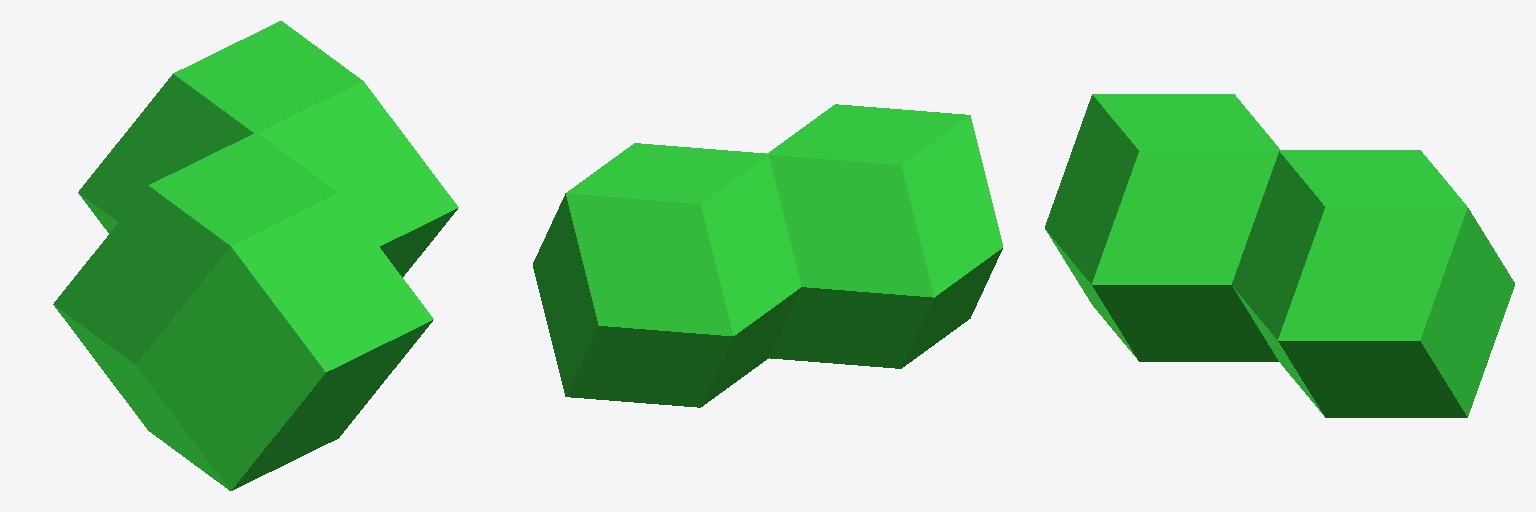
The robot description file, URDF, robot "robot":
<robot name = "robot">
    <link name="Central">
        <inertial>
            <origin xyz="0 0 0" rpy="0 0 0"/>
            <mass value="1.0" />
            <inertia ixx="100" ixy="0" ixz="0" iyy="100" iyz="0" izz="100" />
        </inertial>
        <visual>
            <origin xyz="0 0 0" rpy="0 0 0"/>
            <geometry>
                <mesh filename="RhomDoDeca.obj" scale="0.01 0.01 0.01" />
            </geometry>
            <material name="Sensor">
                <color rgba="0.239 0.875 0.282 1.0"/>
            </material>
        </visual>
        <collision>
            <origin xyz="0 0 0" rpy="0 0 0"/>
            <geometry>
                <mesh filename="RhomDoDeca.obj" scale="0.01 0.01 0.01" />
            </geometry>
        </collision>
    </link>
    <joint name="Central_Periph" type="fixed">
       <parent link="Central"/>
       <child  link="Periph"/>
       <origin rpy="0 0 0" xyz="1.1 1.55 0" />
       <axis xyz="1 0 0"/>
       <limit effort="0.0" lower="-3.14159" upper="3.14159" velocity="0.0"/>
    </joint>
    <link name="Periph">
        <inertial>
            <origin xyz="0 0 0" rpy="0 0 0"/>
            <mass value="1.0" />
            <inertia ixx="100" ixy="0" ixz="0" iyy="100" iyz="0" izz="100" />
        </inertial>
        <visual>
            <origin xyz="0 0 0" rpy="0 0 0"/>
            <geometry>
                <mesh filename="RhomDoDeca.obj" scale="0.01 0.01 0.01" />
            </geometry>
            <material name="Sensor">
                <color rgba="0.239 0.875 0.282 1.0"/>
            </material>
        </visual>
        <collision>
            <origin xyz="0 0 0" rpy="0 0 0"/>
            <geometry>
                <mesh filename="RhomDoDeca.obj" scale="0.01 0.01 0.01" />
            </geometry>
        </collision>
    </link>
</robot>

--- Facts derived from the render (not from the file) ---
Views: 3 orthographic renders of the robot side by side, from view 1: azimuth 30°, elevation 25°; view 2: azimuth 150°, elevation 25°; view 3: azimuth 270°, elevation 25°.
Model robot with 2 links and 1 joints (1 fixed), rooted at Central, posed every joint at zero.
Links seen in each view (by area): view 1: Central, Periph; view 2: Periph, Central; view 3: Periph, Central.
Link boxes in pixels (x1,y1,x2,y2): Central: (53, 132, 433, 490); Periph: (78, 21, 458, 277); Periph: (533, 143, 801, 407); Central: (767, 104, 1002, 368); Periph: (1232, 150, 1514, 417); Central: (1045, 94, 1280, 361).
Bounding box of the posed robot: 3.34 × 3.92 × 1.94 m (x, y, z).
Meshes: 1 distinct files referenced, 2 mesh visuals loaded (1 OBJ).